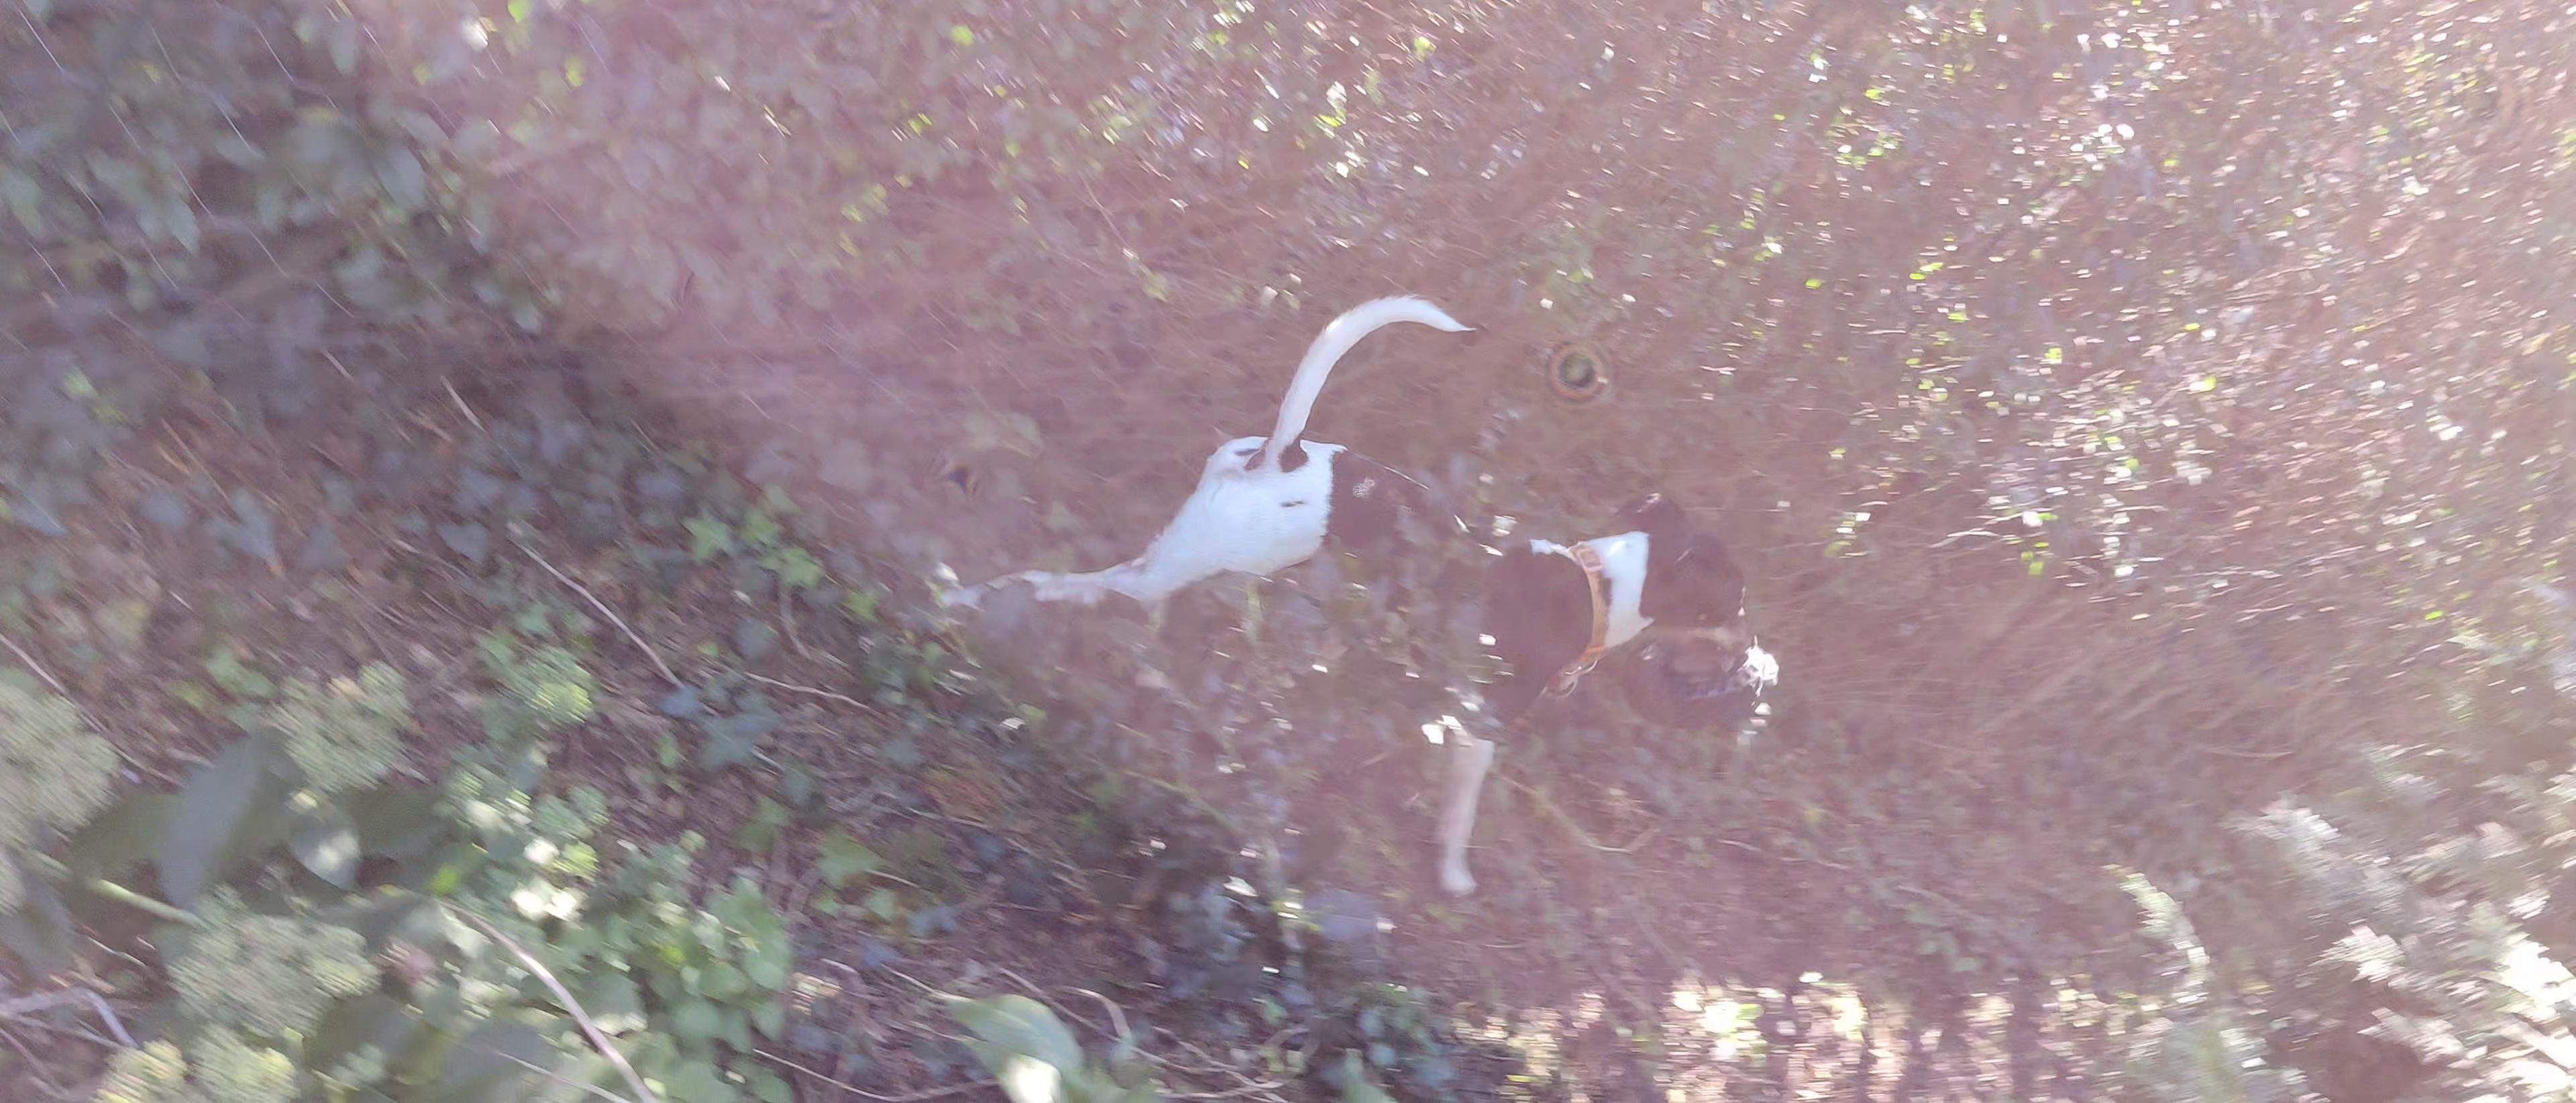Dog: (912, 289, 1766, 899)
